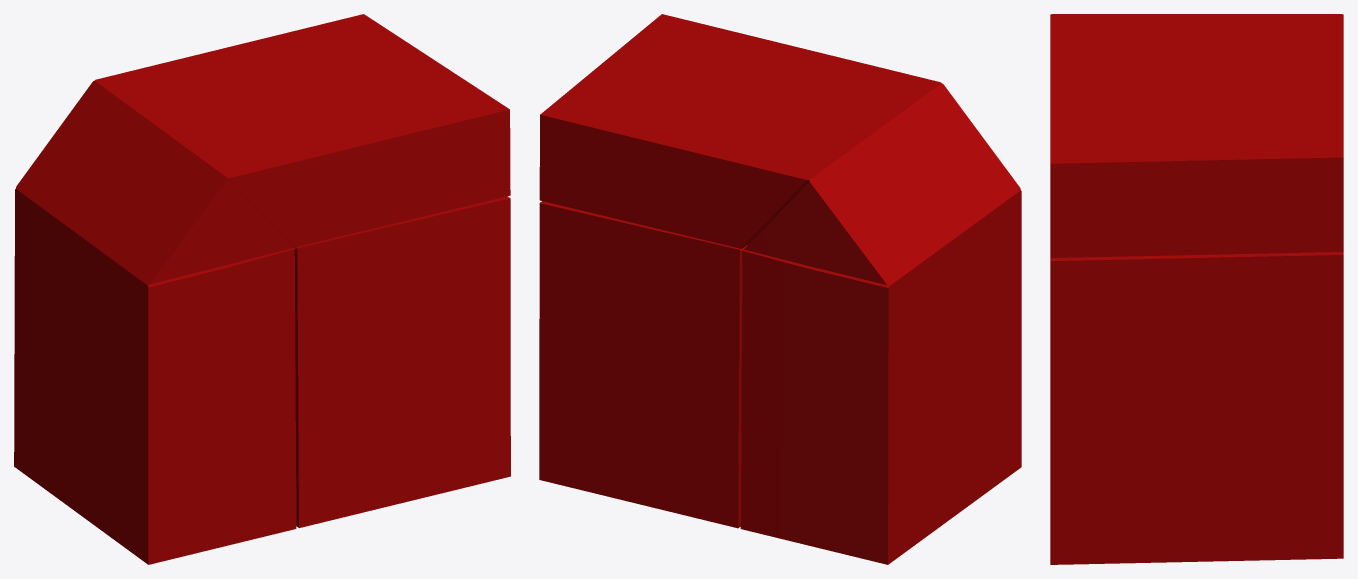
File: casa vermelha.FBX
3 renders of one model, left to right at view 1: azimuth 30°, elevation 25°; view 2: azimuth 150°, elevation 25°; view 3: azimuth 270°, elevation 25°, orthographic. The views are drawn at different scales.
Visible parts, largest first — view 1: casa; view 2: casa; view 3: casa.
Part boxes in pixels (x1,y1,x2,y2): casa: [14, 14, 510, 564]; casa: [539, 14, 1021, 564]; casa: [1050, 14, 1343, 564].
Size of the model in its own units: 74.97 by 48.14 by 72.61.
